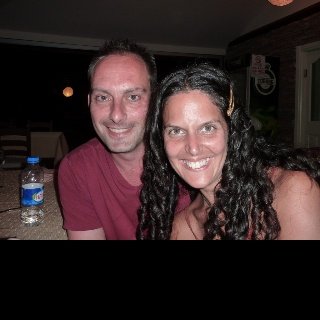without_mask: (160, 92, 227, 186), (89, 55, 150, 151)
